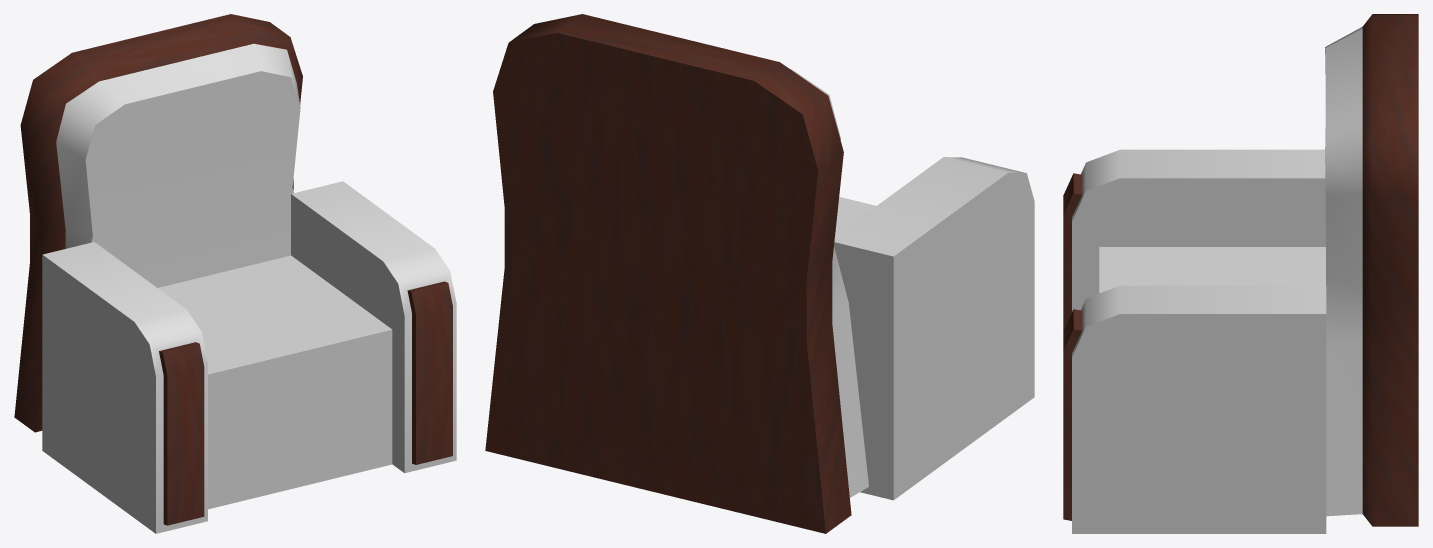
Rendered from Chair.fbx.
3 views of the same model, side by side, from view 1: azimuth 30°, elevation 25°; view 2: azimuth 150°, elevation 25°; view 3: azimuth 270°, elevation 25° (orthographic). The views are drawn at different scales.
Parts seen in each view (by area): view 1: Cube.029; view 2: Cube.029; view 3: Cube.029.
Part boxes in pixels (x1,y1,x2,y2): Cube.029: (14, 14, 456, 533); Cube.029: (485, 14, 1034, 533); Cube.029: (1063, 14, 1418, 533).
Size of the model in its own units: 86.75 by 96.67 by 79.33.
